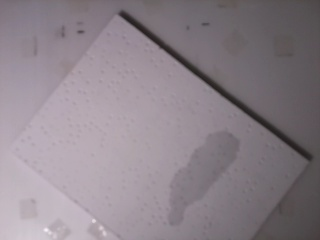Water_detected: (173, 135, 229, 209)
